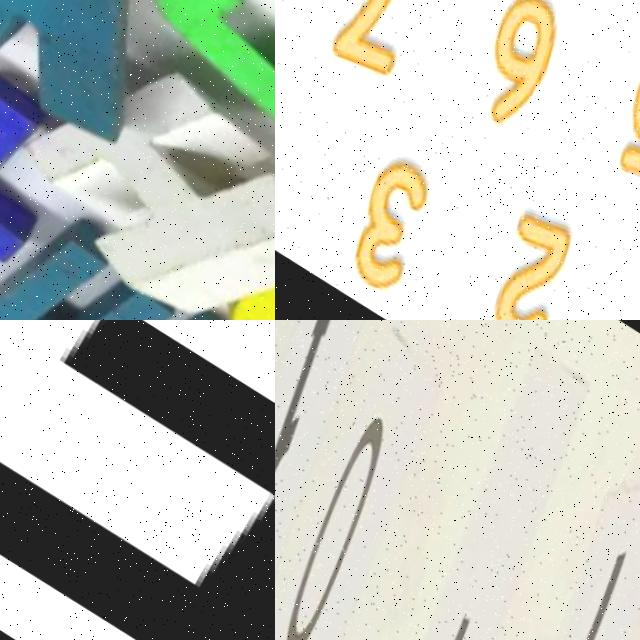0: (275, 391, 437, 640)
1: (275, 320, 384, 516)
2: (451, 191, 604, 320)
3: (314, 139, 459, 309)
5: (579, 19, 640, 204)
6: (436, 0, 597, 153)
7: (500, 522, 640, 640), (295, 0, 458, 96), (342, 587, 510, 640)
C: (83, 0, 275, 214)
F: (0, 320, 275, 640)
H: (0, 0, 275, 320)
K: (0, 0, 211, 176)
M: (0, 195, 239, 320)
T: (0, 14, 85, 273)
